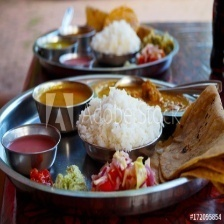sabzi: (94, 76, 200, 117)
